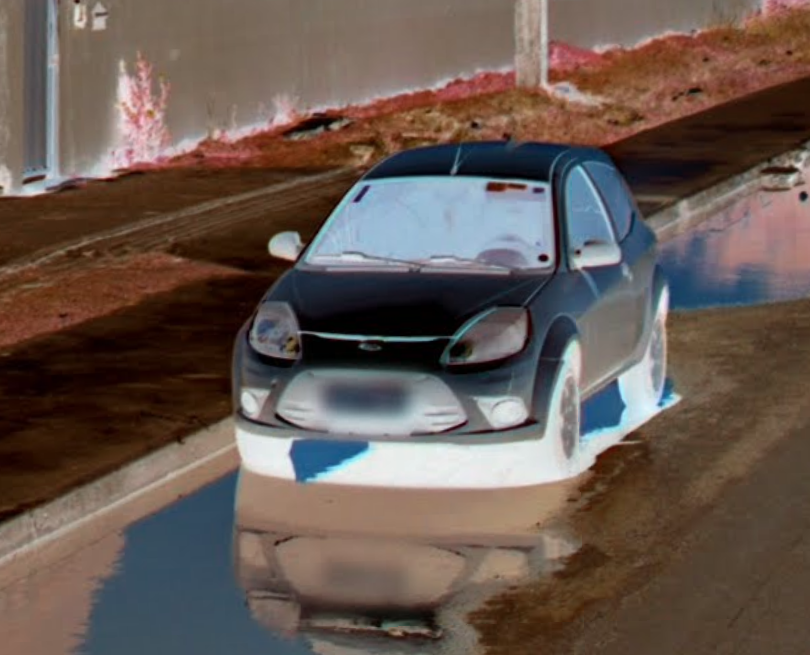car: (226, 122, 671, 484)
